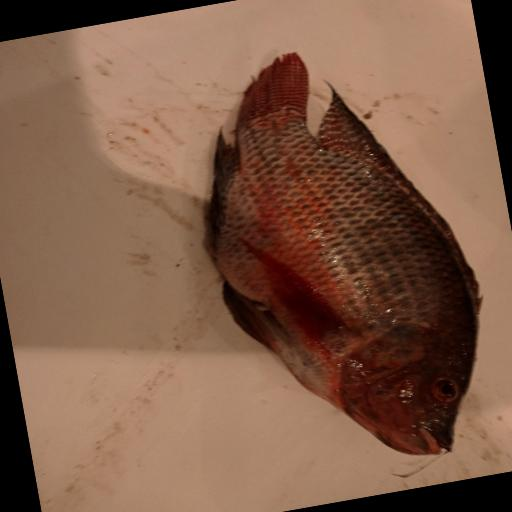Tilapia: (173, 27, 508, 489)
